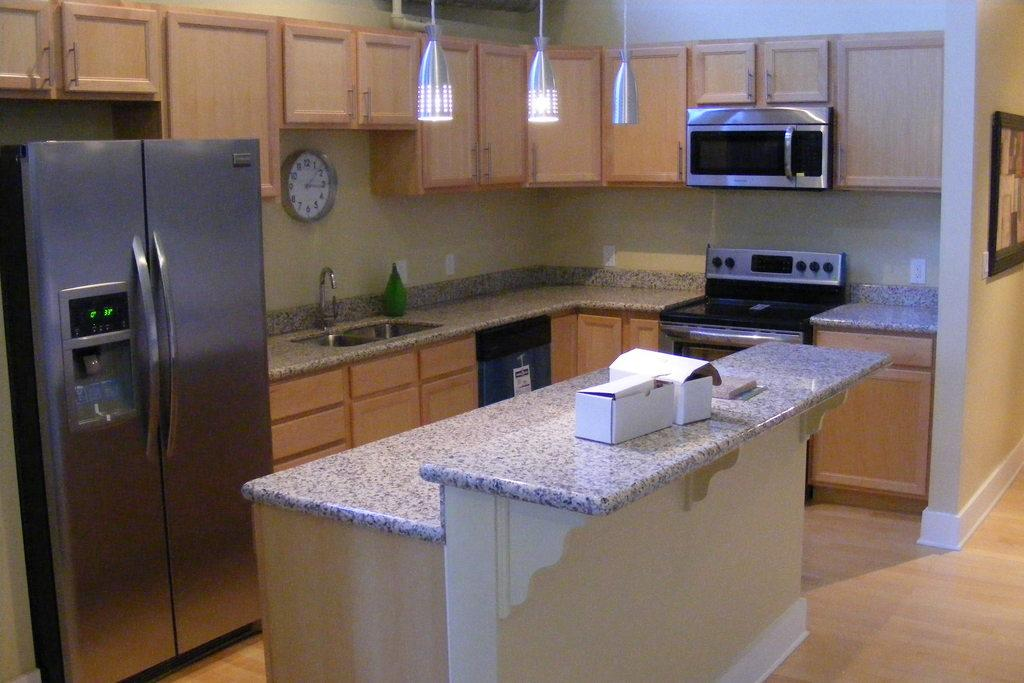cabinet_door: (841, 44, 948, 192), (166, 21, 284, 142), (606, 51, 684, 185), (525, 54, 596, 185), (64, 8, 158, 92), (428, 40, 478, 176), (476, 45, 523, 178), (286, 35, 356, 122), (0, 2, 72, 82), (358, 34, 418, 122), (754, 40, 828, 105), (686, 48, 760, 102), (258, 369, 342, 407), (272, 414, 350, 447), (354, 394, 418, 434), (422, 378, 478, 419), (416, 342, 478, 378), (346, 360, 420, 390), (578, 314, 614, 367)
handle: (146, 230, 194, 456), (122, 234, 166, 465), (674, 324, 752, 350), (775, 116, 795, 191), (39, 42, 59, 96), (64, 42, 82, 92), (462, 140, 482, 183), (343, 80, 360, 126), (524, 147, 543, 185), (358, 87, 376, 124), (674, 140, 688, 187), (836, 146, 851, 187), (482, 139, 494, 184), (758, 71, 774, 102), (745, 70, 755, 100)
